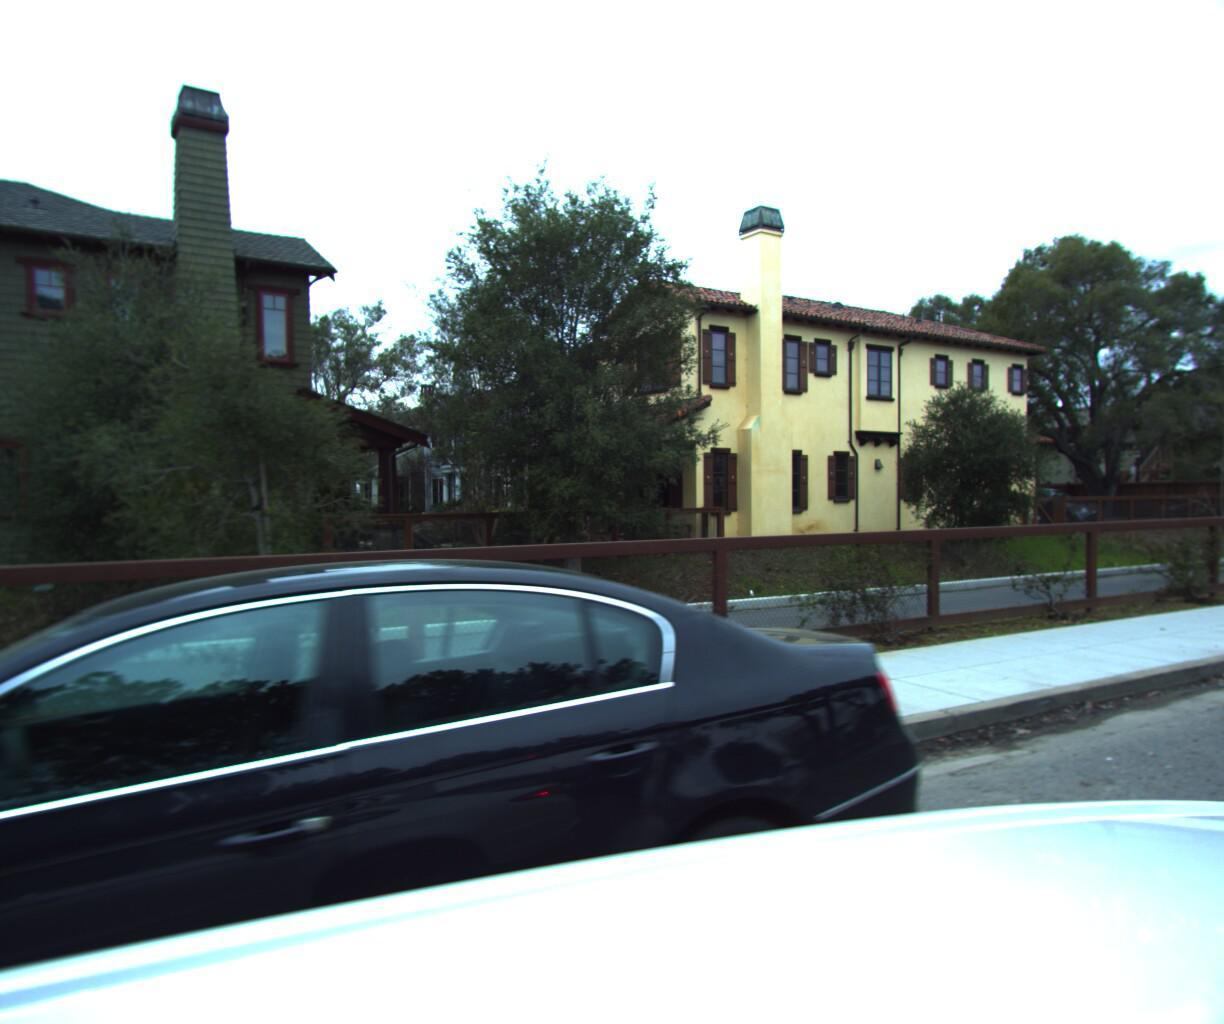car: (0, 540, 1003, 1024)
